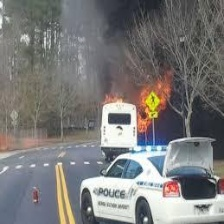fire: (103, 72, 177, 133)
smoke: (70, 1, 150, 72)
